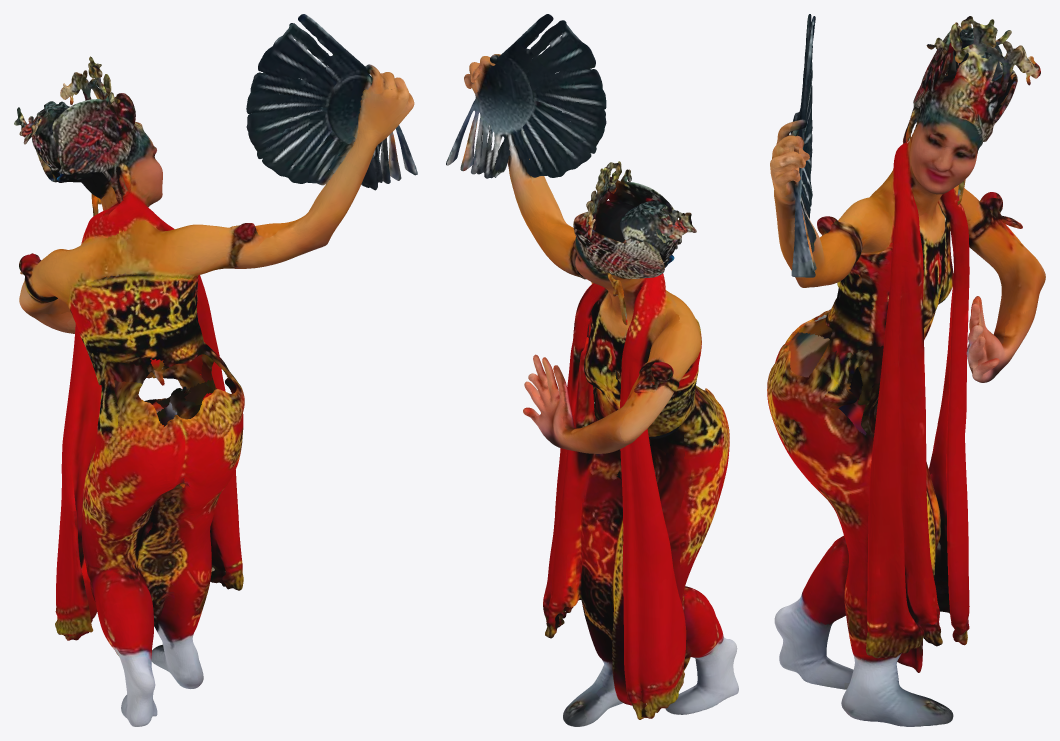
The model's file is gandrung.glb.
The picture shows the model from 3 angles, left to right: view 1: azimuth 30°, elevation 25°; view 2: azimuth 150°, elevation 25°; view 3: azimuth 270°, elevation 25°; orthographic projection. The views are drawn at different scales.
Visible parts, largest first — view 1: Object_4; view 2: Object_4; view 3: Object_4.
Boxes of the visible parts, left/top/right/bottom form: Object_4: left=14, top=14, right=417, bottom=726; Object_4: left=446, top=14, right=738, bottom=726; Object_4: left=767, top=14, right=1045, bottom=726.
Bounding box in the file's own units: 0.5051 × 1 × 0.3366.
1 material, 1 textured.
